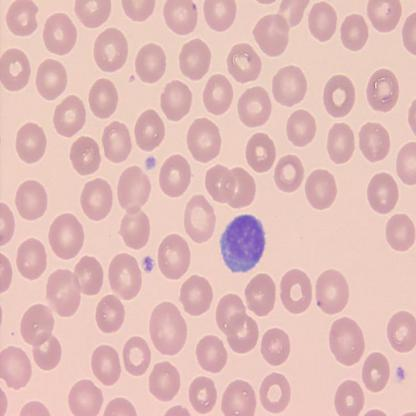Lymphocyte: (220, 214, 265, 274)
